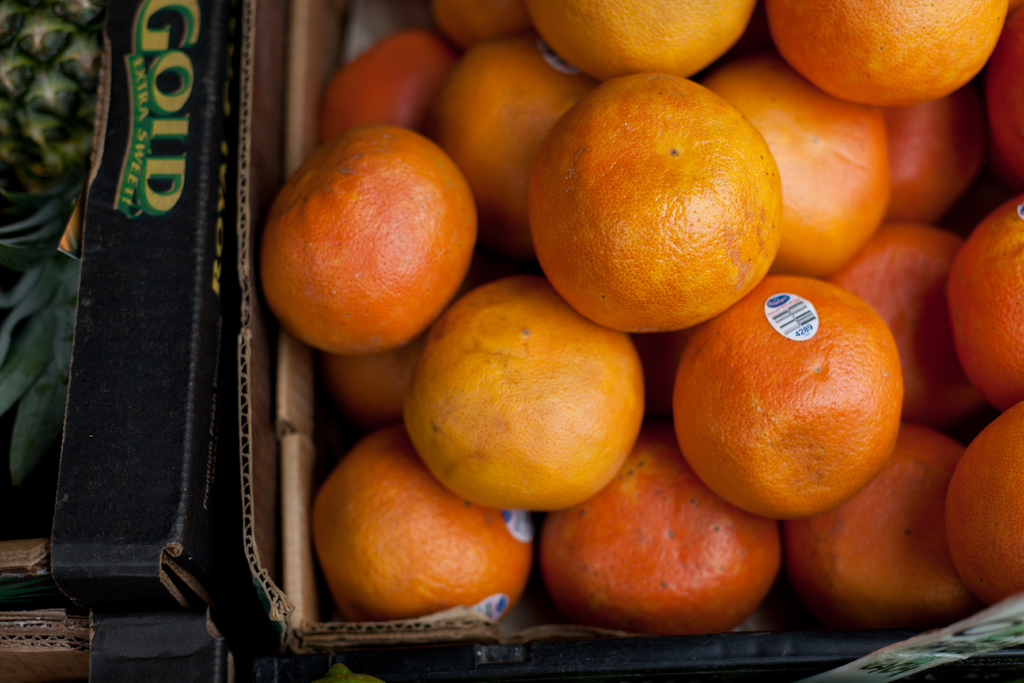Ripe: (675, 273, 904, 517)
